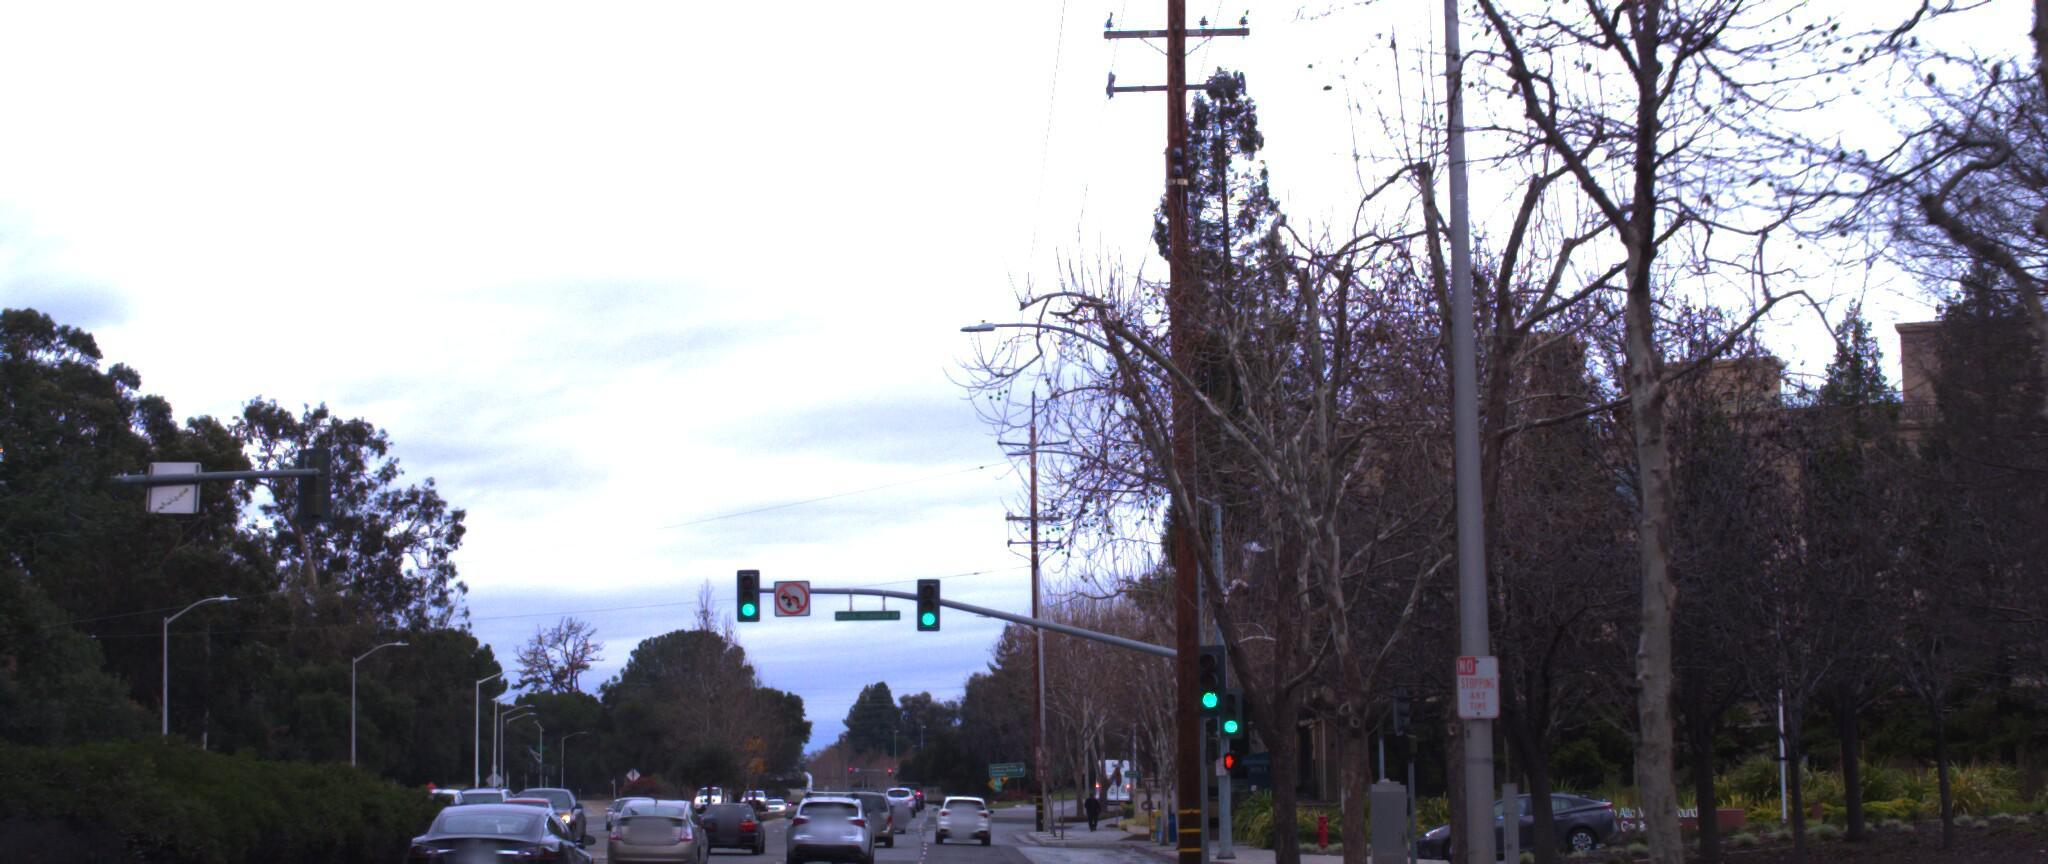car: (391, 773, 614, 864), (613, 775, 728, 857), (799, 764, 892, 846)
